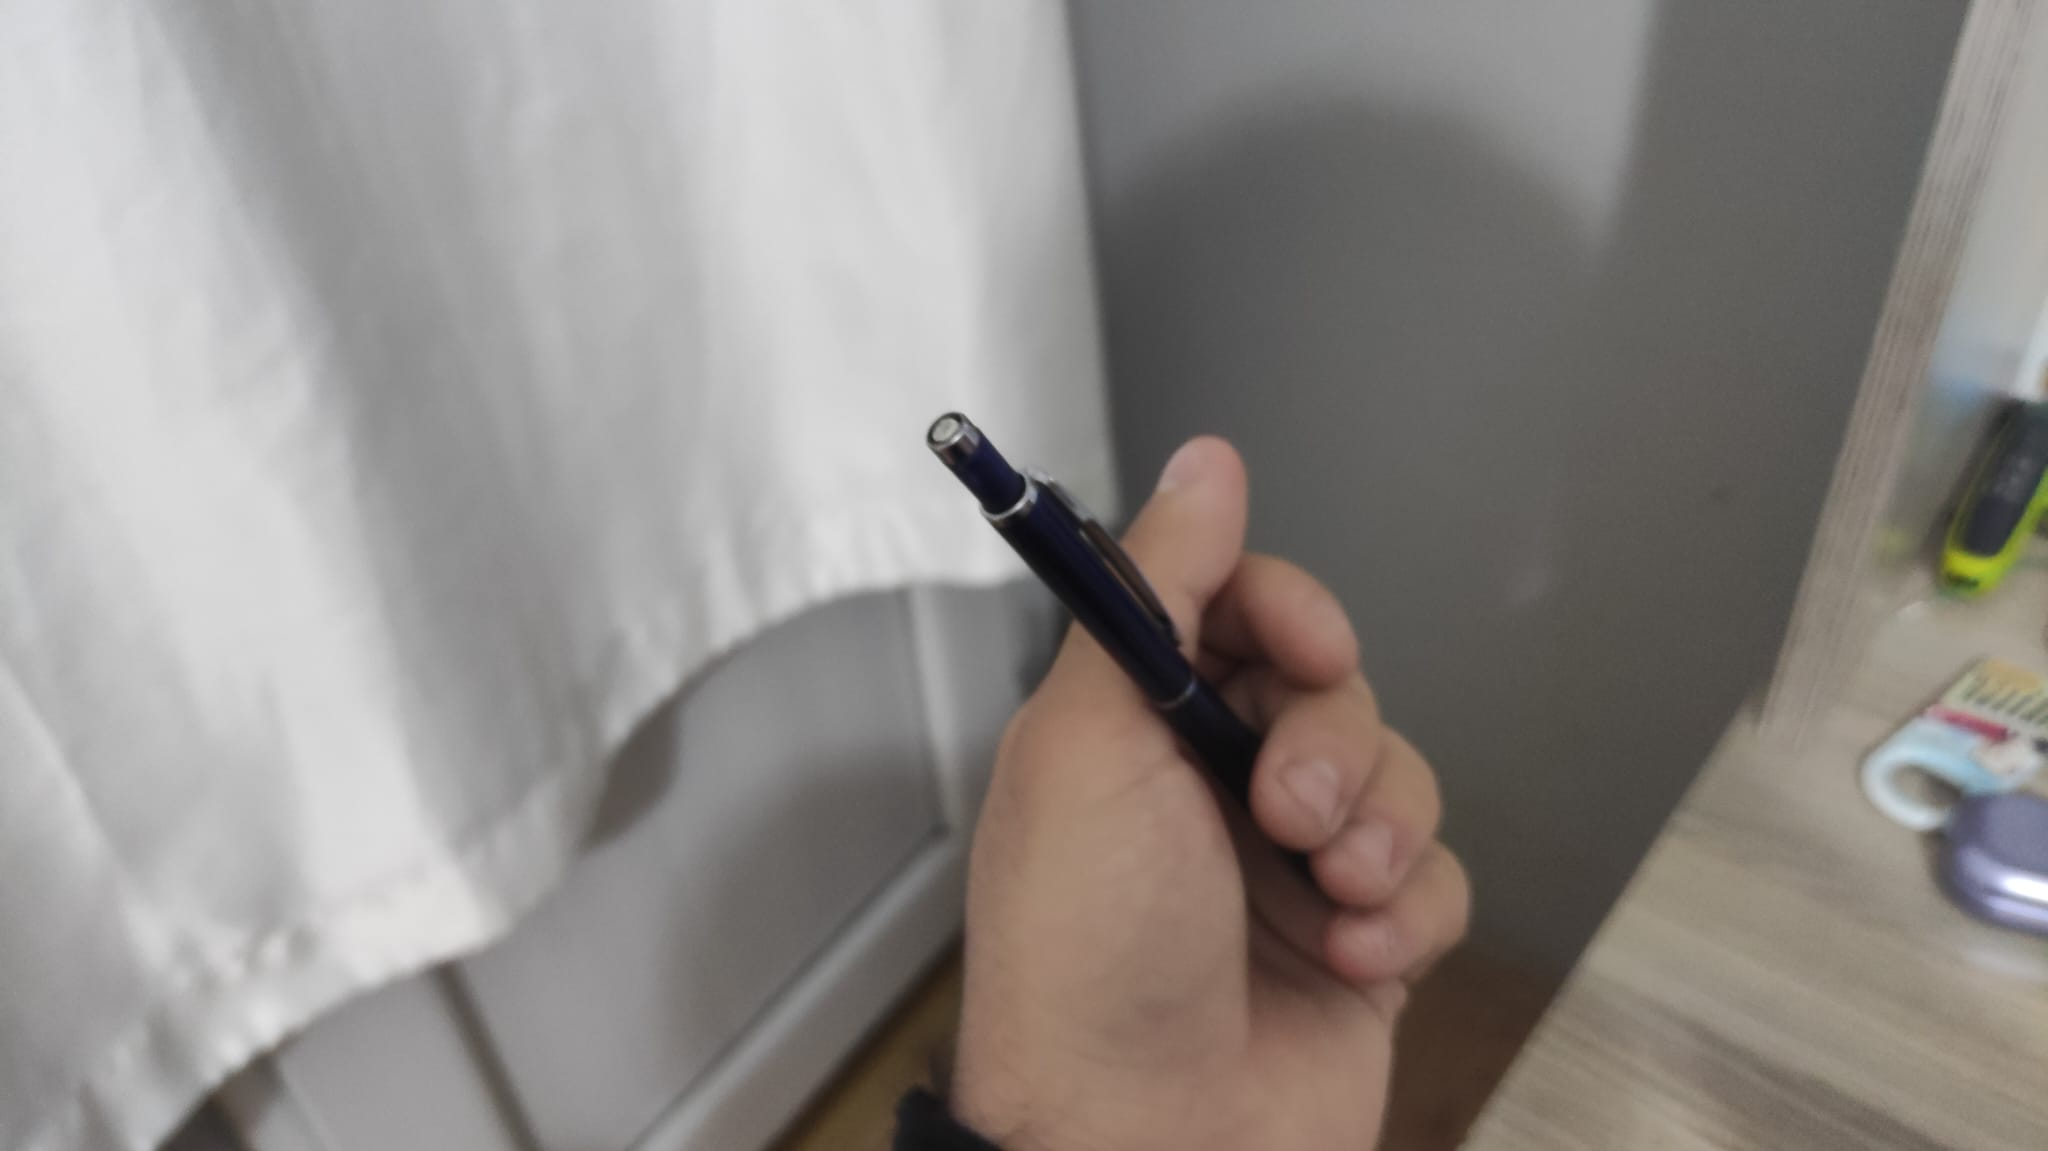kalem: (928, 407, 1279, 812)
